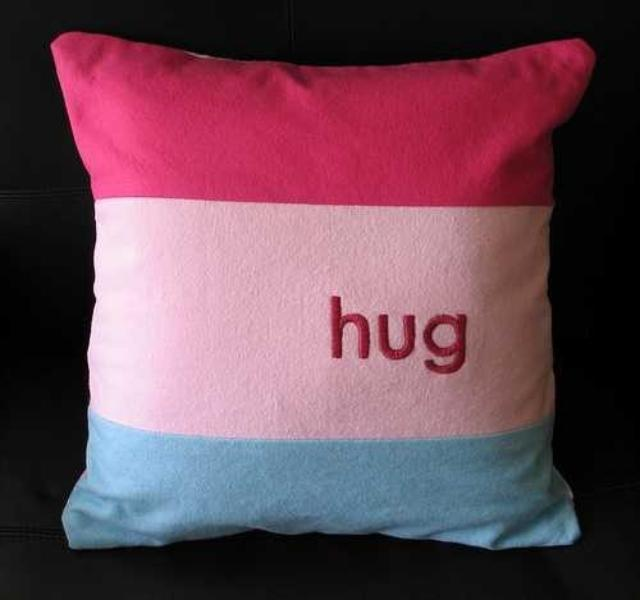pillow: (48, 29, 594, 553)
